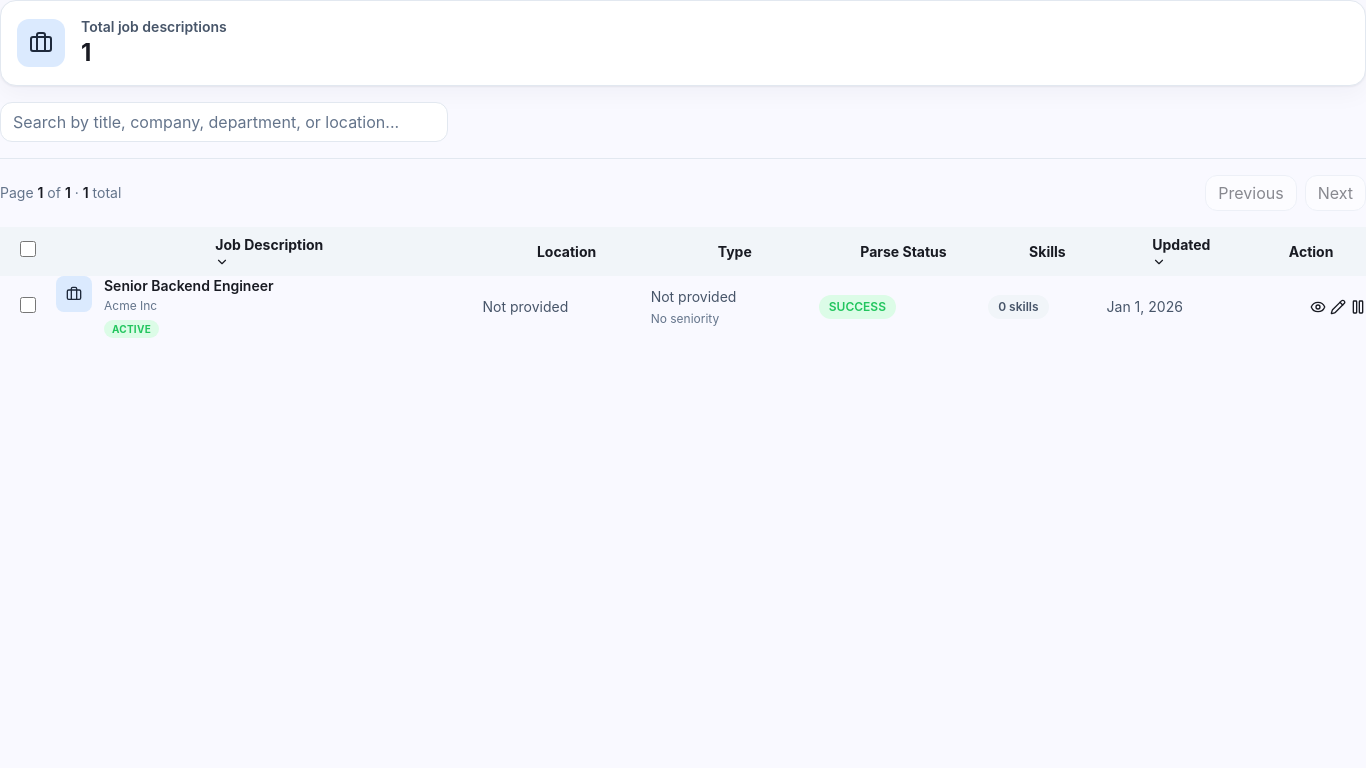
Scenario: JobDescriptionList › deactivates a single job description after confirming
Expected: the text "Senior Backend Engineer" is shown, [104, 276, 274, 296]
Click the button named "Deactivate" at [1358, 307], box [1350, 299, 1365, 315]
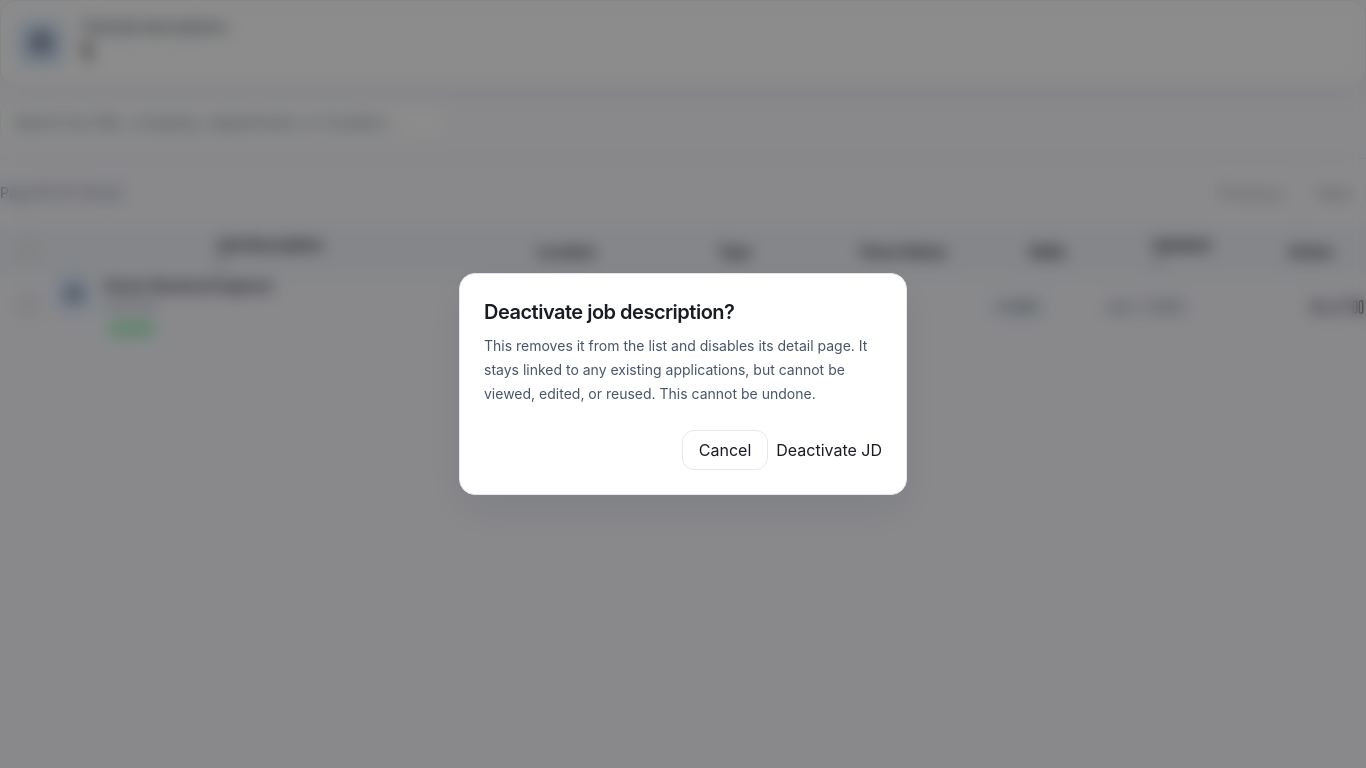
Expected: the heading "Deactivate job description?" is shown, [484, 300, 734, 324]
Click the button "Deactivate JD" at [829, 450], box [776, 430, 882, 470]
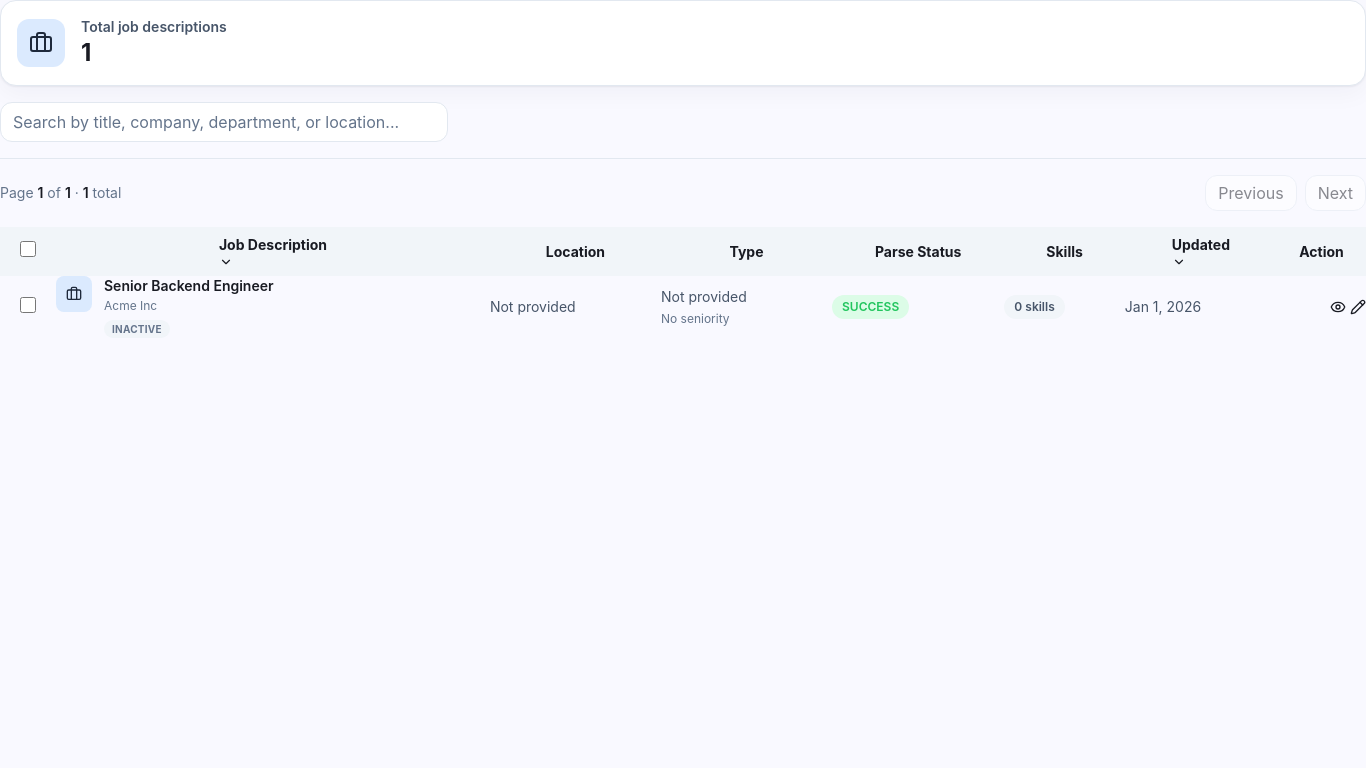
Expected: the text "Inactive" is shown, [104, 320, 170, 338]
